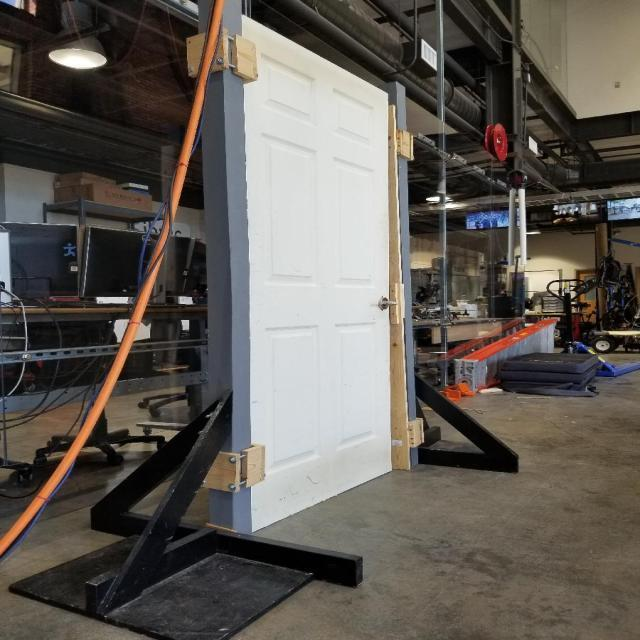door: (236, 12, 398, 534), (370, 294, 402, 318)
